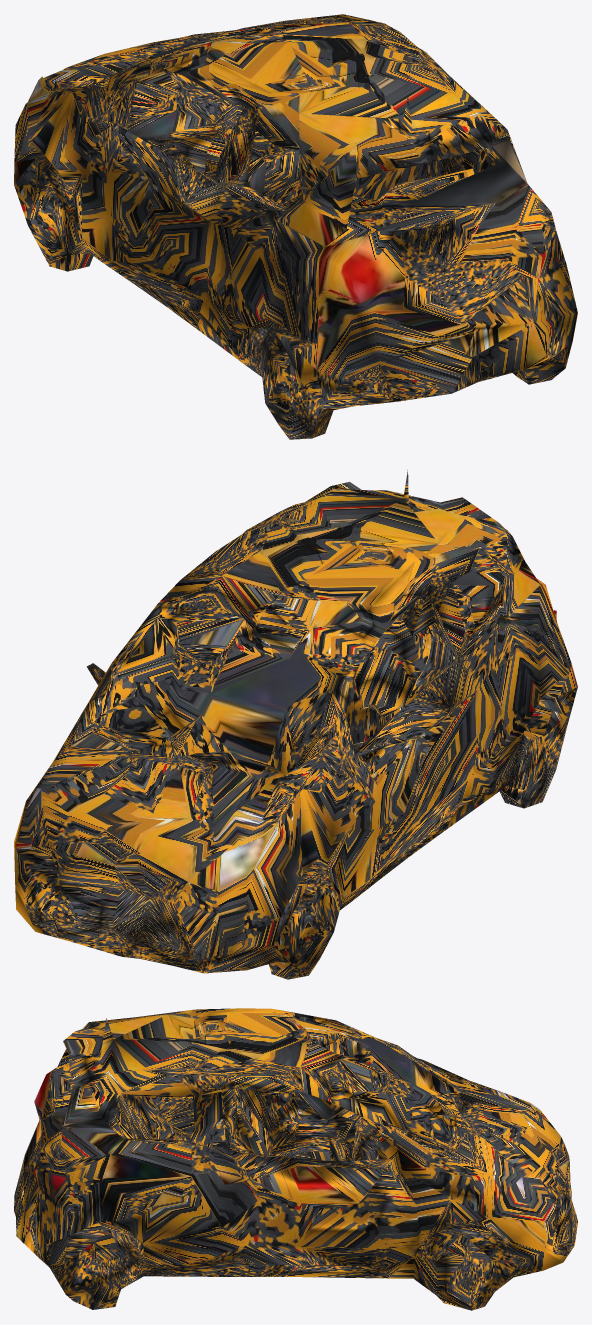
File: hatch.far.glb
3 views of the same model, one above another, from view 1: azimuth 30°, elevation 25°; view 2: azimuth 150°, elevation 25°; view 3: azimuth 270°, elevation 25° (orthographic). The views are drawn at different scales.
Bounding box in the file's own units: 0.9612 × 0.9006 × 1.9.
Materials: 1 (1 with a texture image).
